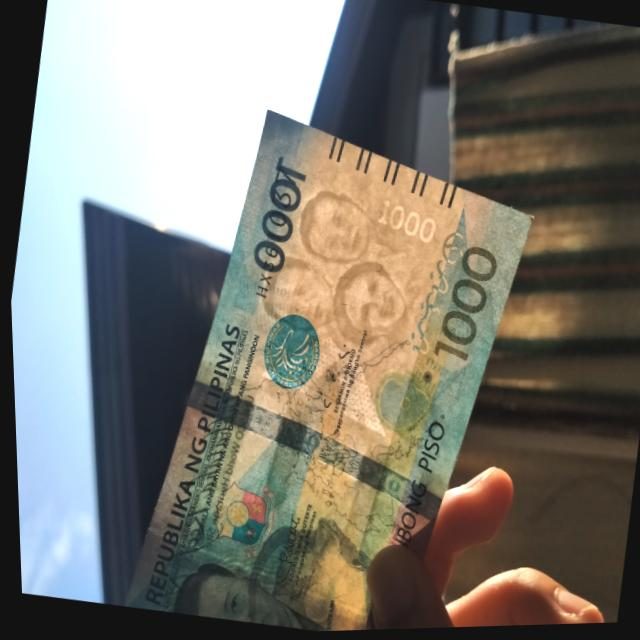security_thread: (178, 381, 442, 533)
see_through_mark: (393, 223, 470, 375)
value_watermark: (366, 199, 442, 249)
watermark: (249, 182, 428, 356)
